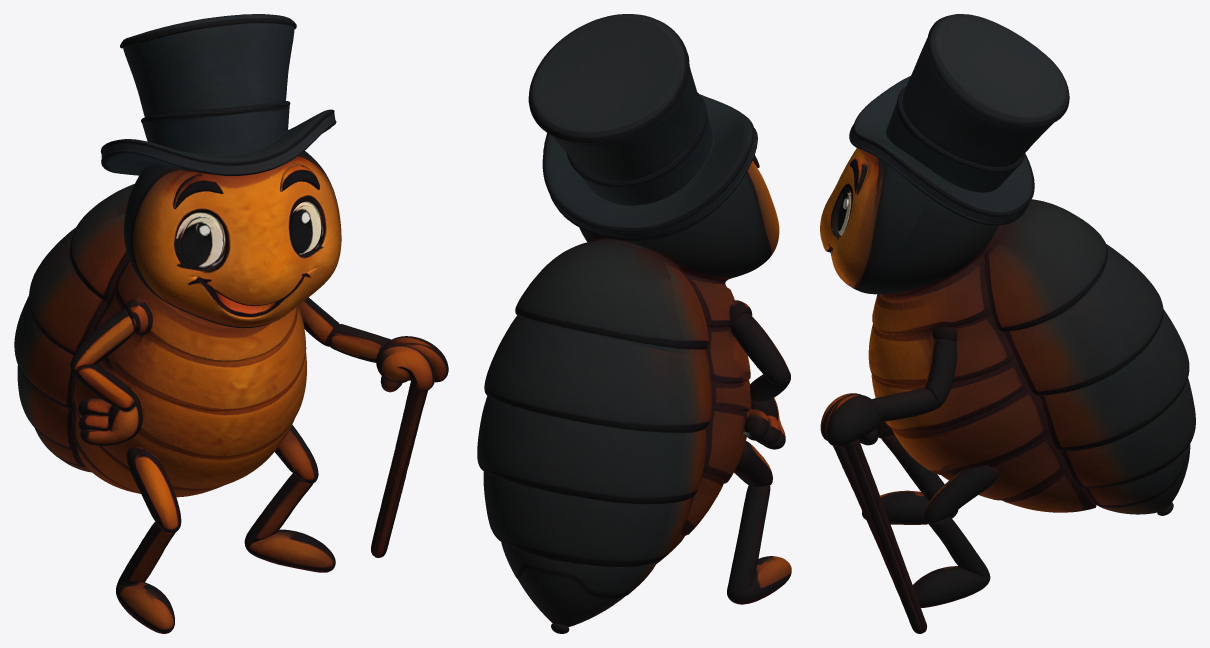
File: hitem3dneu-v1-v3.glb
3 renders of one model, left to right at view 1: azimuth 30°, elevation 25°; view 2: azimuth 150°, elevation 25°; view 3: azimuth 270°, elevation 25°, orthographic. The views are drawn at different scales.
Visible parts, largest first — view 1: tmpbm6nd80u.obj; view 2: tmpbm6nd80u.obj; view 3: tmpbm6nd80u.obj.
Part boxes in pixels (<box>): tmpbm6nd80u.obj: <box>14,14,448,633</box>; tmpbm6nd80u.obj: <box>477,14,791,633</box>; tmpbm6nd80u.obj: <box>820,14,1195,633</box>.
Bounding box in the file's own units: 1.08 × 1.86 × 1.17.
1 material, 1 textured.
